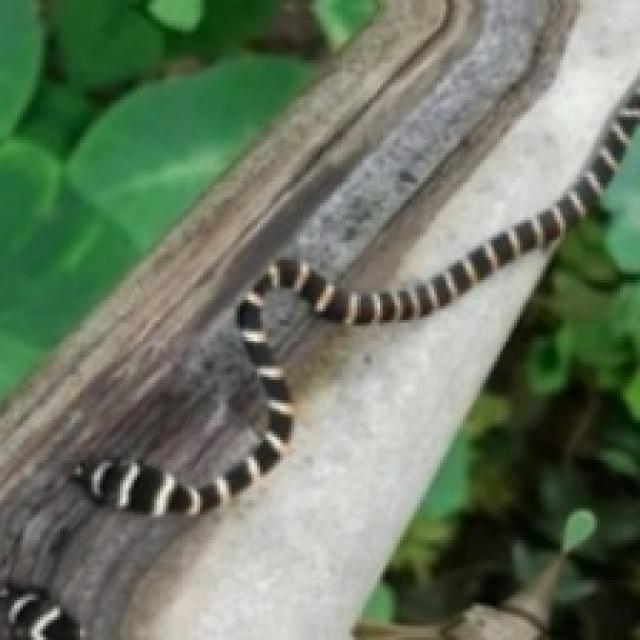paradise tree snake: (74, 91, 640, 517), (0, 588, 81, 640)
